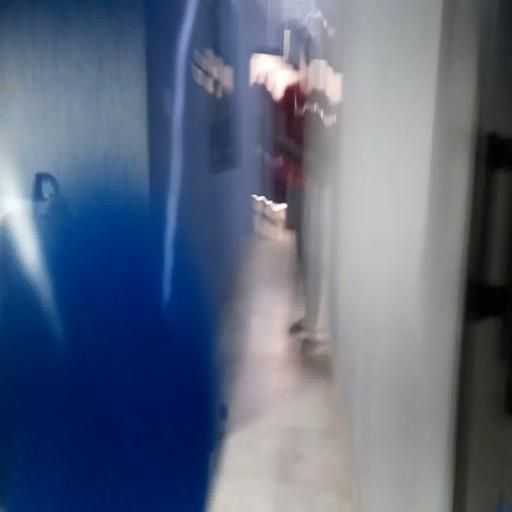plastic-ball: (0, 193, 218, 511)
